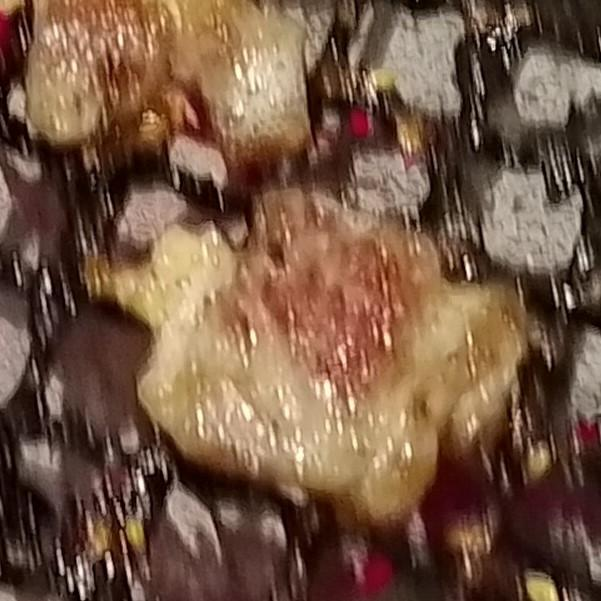Overcooked: (103, 190, 518, 530), (26, 0, 325, 201)
